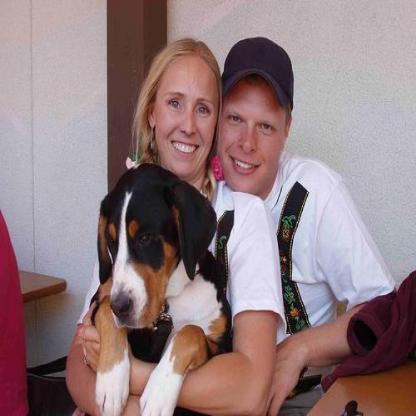Greater_Swiss_Mountain_dog: (90, 163, 230, 414)
